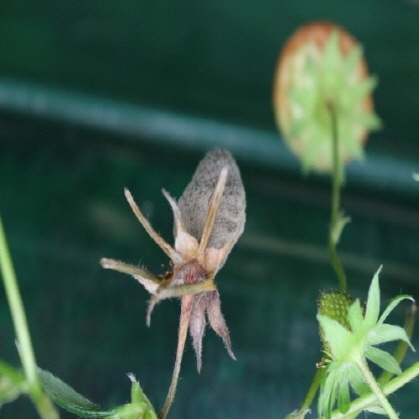Gray_Mold: (147, 46, 248, 328)
